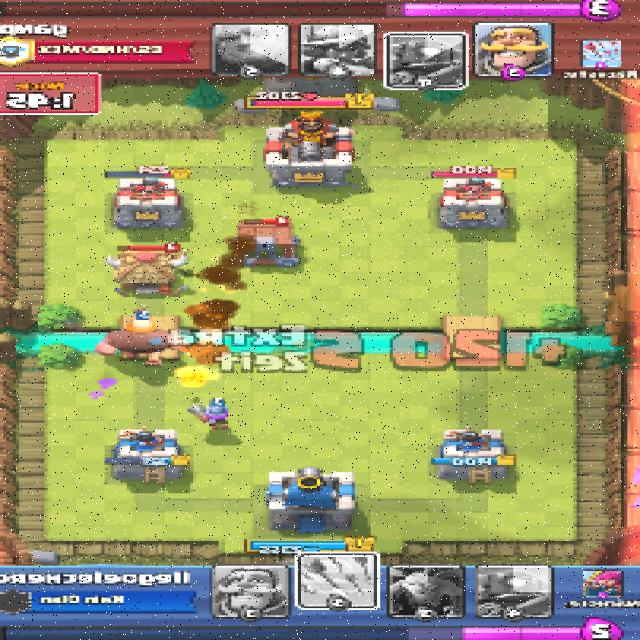Enemy-Fireball: (173, 358, 218, 392)
Enemy-GoblinHut: (102, 250, 193, 297)
Player-Giant: (94, 319, 192, 366)
Player-GoblinCage: (231, 220, 304, 267)
Player-Musketeer: (183, 402, 230, 433)
